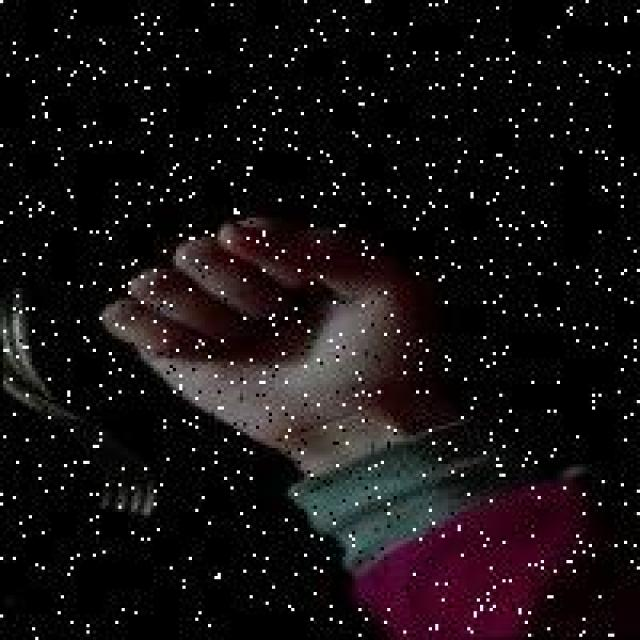S: (88, 205, 459, 451)
